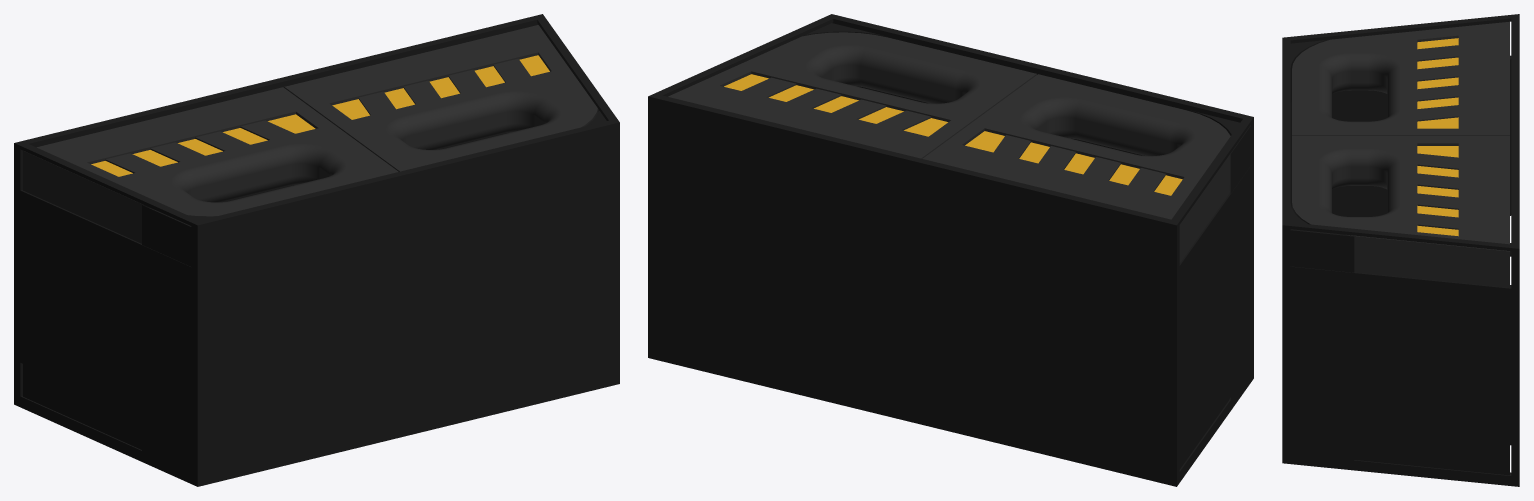
The model's file is la_Raza_AIRLOCK v1.fbx.
The picture shows the model from 3 angles, left to right: view 1: azimuth 30°, elevation 25°; view 2: azimuth 150°, elevation 25°; view 3: azimuth 270°, elevation 25°; orthographic projection. The views are drawn at different scales.
Parts seen in each view (by area): view 1: Body27, Body32, Body31, Body34; view 2: Body27, Body32, Body31, Body34; view 3: Body27, Body31, Body32, Body33.
Boxes of the visible parts, bbox=[...] form: Body27: bbox=[14, 14, 619, 486]; Body32: bbox=[23, 87, 398, 243]; Body31: bbox=[284, 25, 598, 171]; Body34: bbox=[23, 364, 141, 449]; Body27: bbox=[648, 14, 1253, 486]; Body32: bbox=[922, 74, 1231, 262]; Body31: bbox=[668, 32, 1036, 158]; Body34: bbox=[1179, 367, 1230, 469]; Body27: bbox=[1282, 14, 1519, 486]; Body31: bbox=[1292, 136, 1509, 287]; Body32: bbox=[1292, 21, 1509, 135]; Body33: bbox=[1354, 429, 1509, 475].
Size of the model in its own units: 202 by 95.28 by 86.06.
